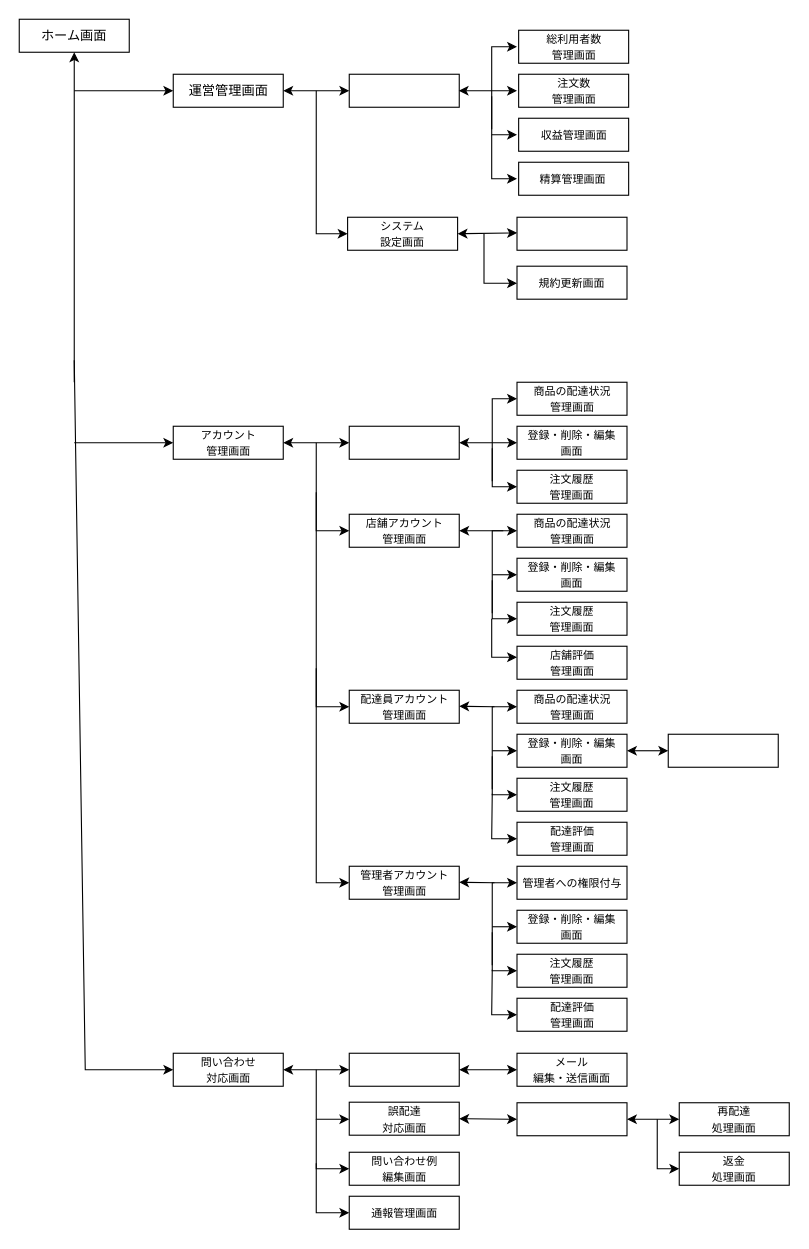
Image size: 809x1249. Some labels were removed from this diagram. Each missing label, with the centre of its shape:
依頼者アカウント 管理画面: (x=403, y=442)
問い合わせ フォーム確認画面: (x=403, y=1069)
報告内容 確認画面: (x=571, y=1119)
売り上げ 管理画面: (x=403, y=90)
手数料率 変更画面: (x=571, y=233)
警告 通知 送信管理画面: (x=722, y=750)
